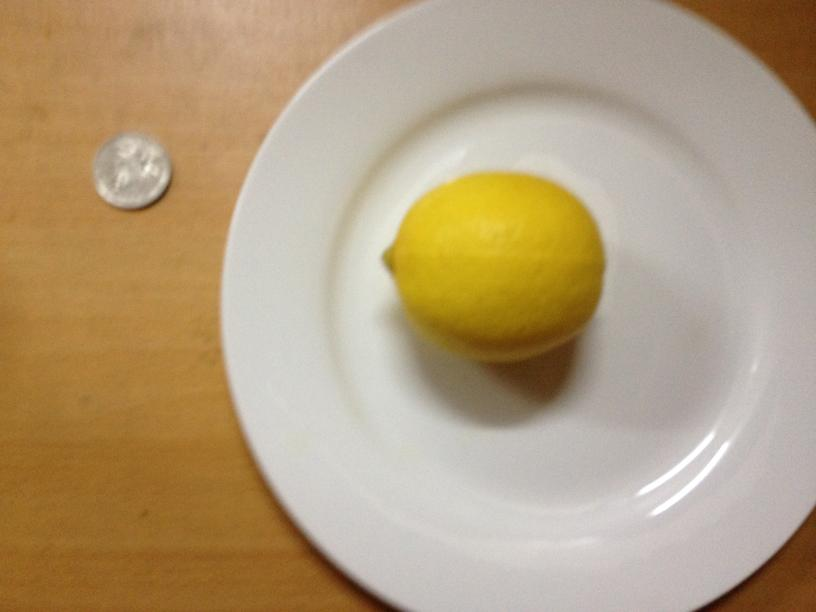coin: (88, 132, 171, 211)
lemon: (385, 172, 602, 361)
